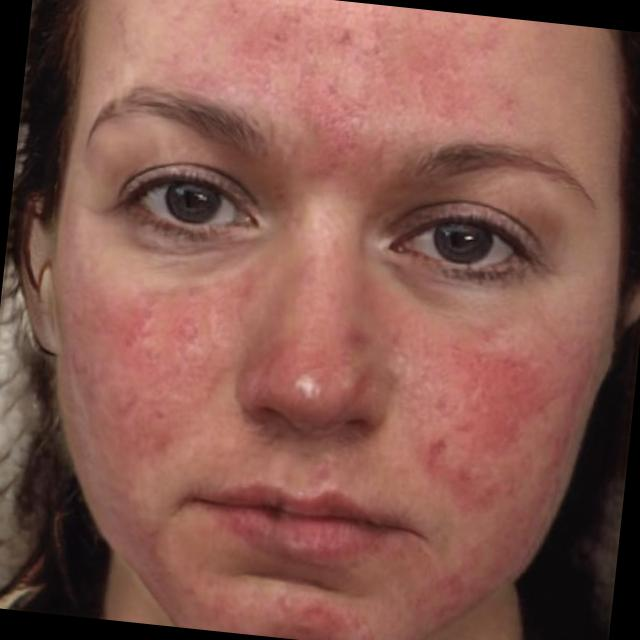redness: (148, 0, 504, 188), (404, 325, 579, 522), (62, 279, 228, 474), (241, 317, 378, 415), (261, 593, 370, 640)
